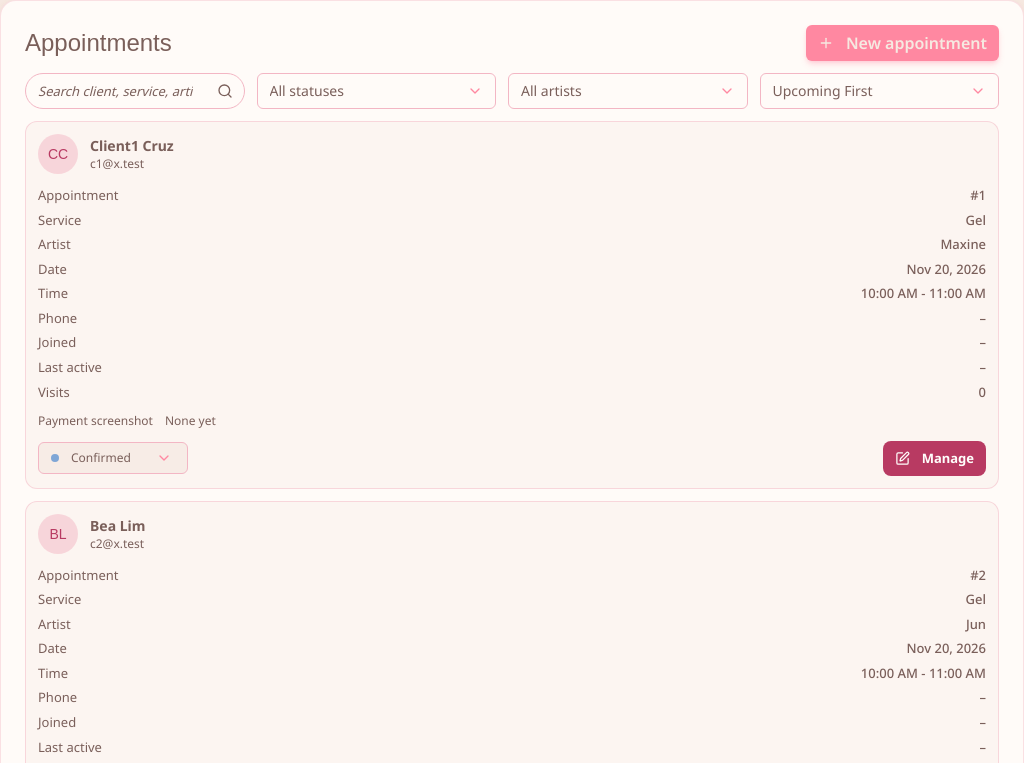
it: Appointments on a phone › has the filters in one row, each opening its options in a bottom drawer
Click the button with aria-label "Status: All statuses" at (376, 91), box [256, 73, 496, 109]
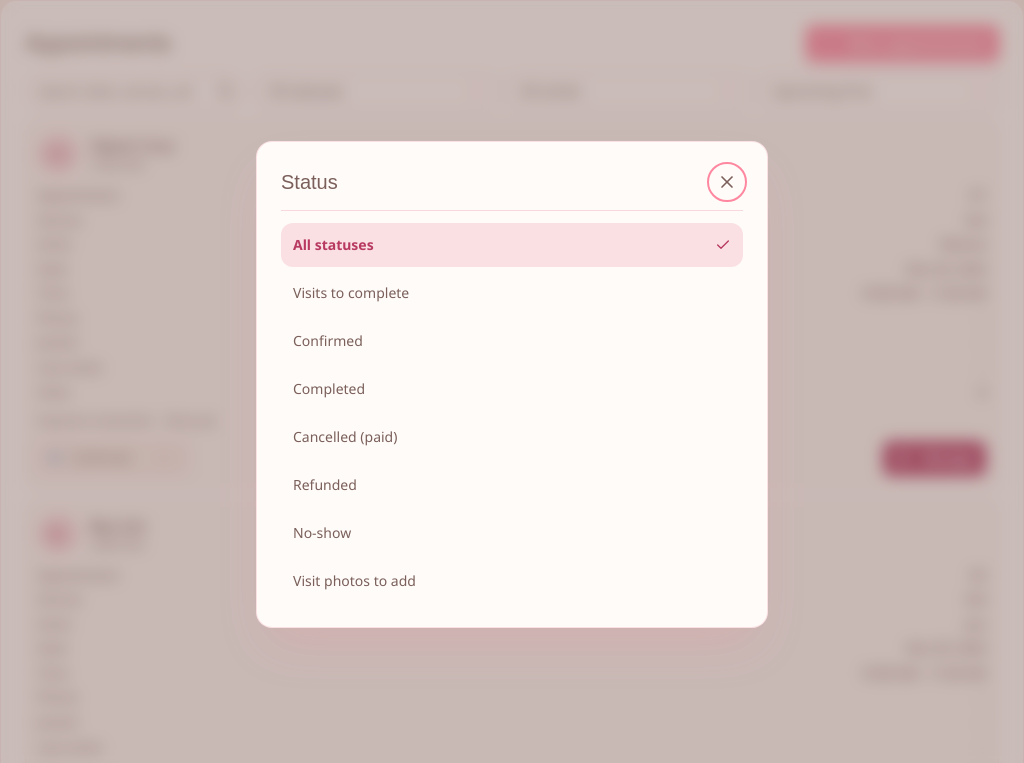
Click the button "Confirmed" at (328, 340), box [281, 318, 743, 362]
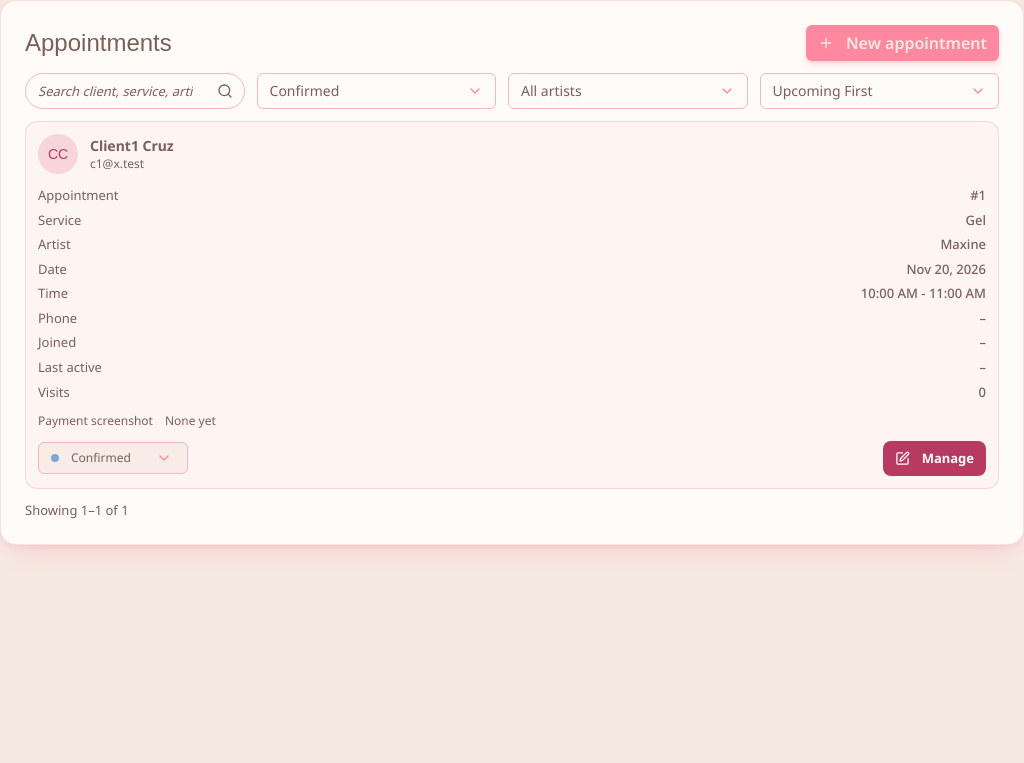
Expected: the button "status" is gone
Expected: the button with aria-label "Status: Confirmed" is shown, [256, 73, 496, 109]
